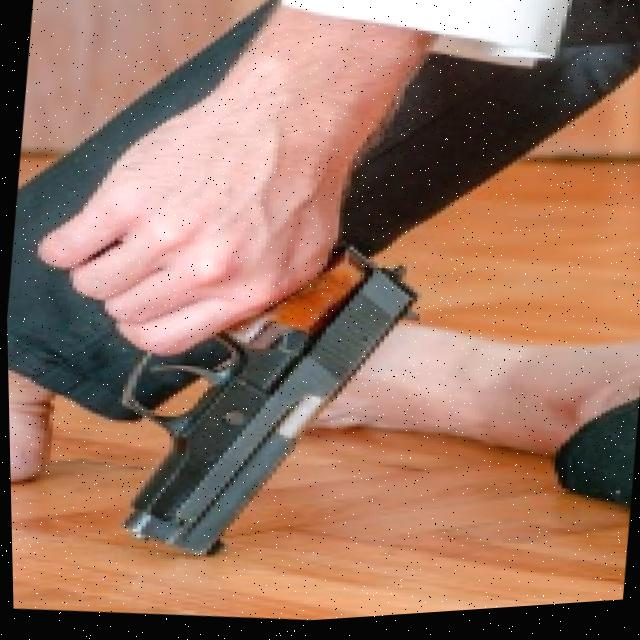pistol: (118, 223, 422, 583)
